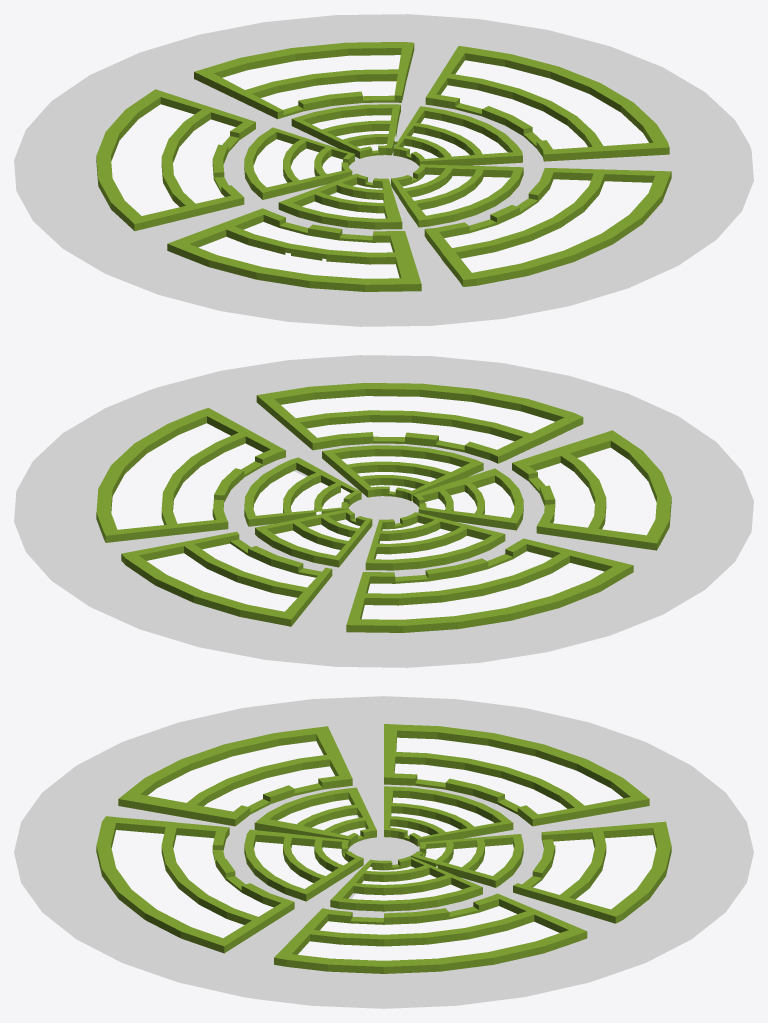
File: arc.fbx
The picture shows the model from 3 angles, top to bottom: view 1: azimuth 30°, elevation 25°; view 2: azimuth 150°, elevation 25°; view 3: azimuth 270°, elevation 25°; orthographic projection.
Parts seen in each view (by area): view 1: Circle; view 2: Circle; view 3: Circle.
Part boxes in pixels (<box>): Circle: <box>14,14,753,326</box>; Circle: <box>14,355,753,667</box>; Circle: <box>14,696,753,1008</box>.
Size of the model in its own units: 2678 by 28.38 by 2678.
